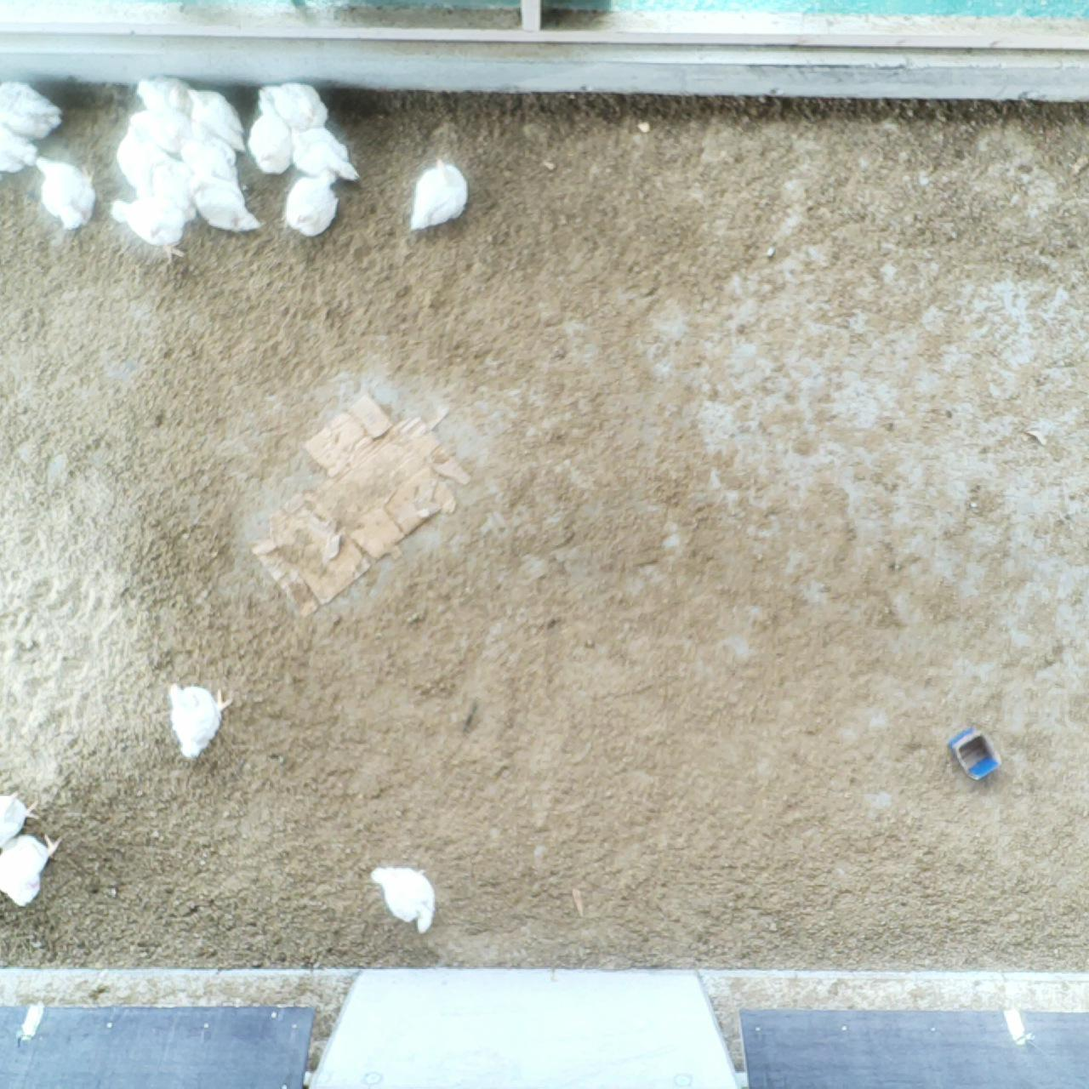chicken: (110, 192, 194, 261), (167, 678, 235, 759), (32, 153, 97, 230), (0, 832, 63, 909), (409, 159, 470, 238), (184, 175, 262, 234), (372, 865, 436, 935), (185, 84, 246, 152), (246, 92, 295, 176), (290, 126, 360, 184), (139, 158, 199, 223), (0, 79, 65, 138), (285, 168, 338, 239), (262, 79, 328, 135), (118, 125, 175, 189), (135, 75, 198, 129), (0, 792, 43, 859), (132, 108, 192, 155), (181, 142, 238, 187), (184, 120, 236, 165), (0, 118, 37, 176)
